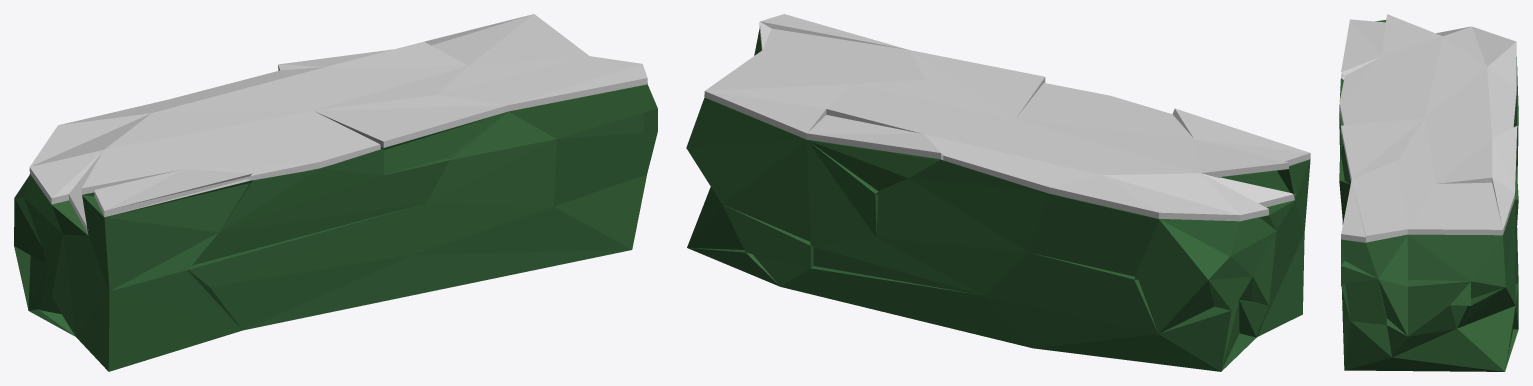
The model's file is Fence_Bush.fbx.
3 renders of one model, left to right at view 1: azimuth 30°, elevation 25°; view 2: azimuth 150°, elevation 25°; view 3: azimuth 270°, elevation 25°, orthographic. The views are drawn at different scales.
Visible parts, largest first — view 1: Bush_Fence; view 2: Bush_Fence; view 3: Bush_Fence.
Part boxes in pixels (x1,y1,x2,y2): Bush_Fence: (14, 14, 657, 371); Bush_Fence: (686, 14, 1310, 371); Bush_Fence: (1339, 14, 1518, 371).
Size of the model in its own units: 640 by 195 by 213.
